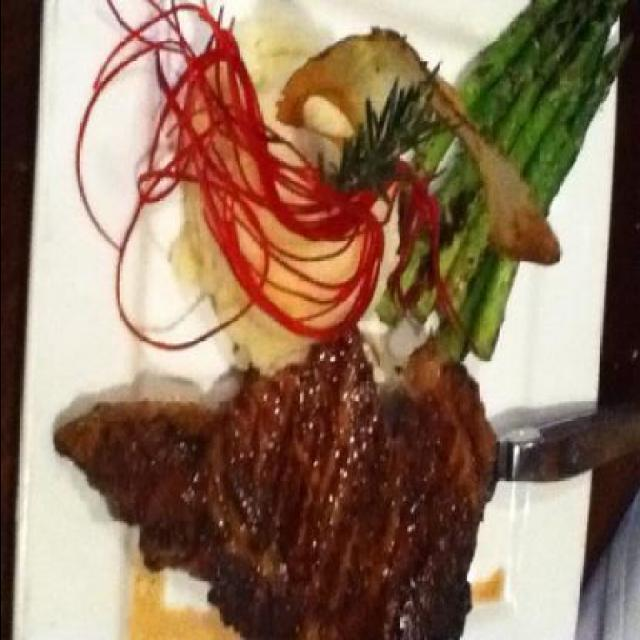Steak: (54, 352, 502, 640)
